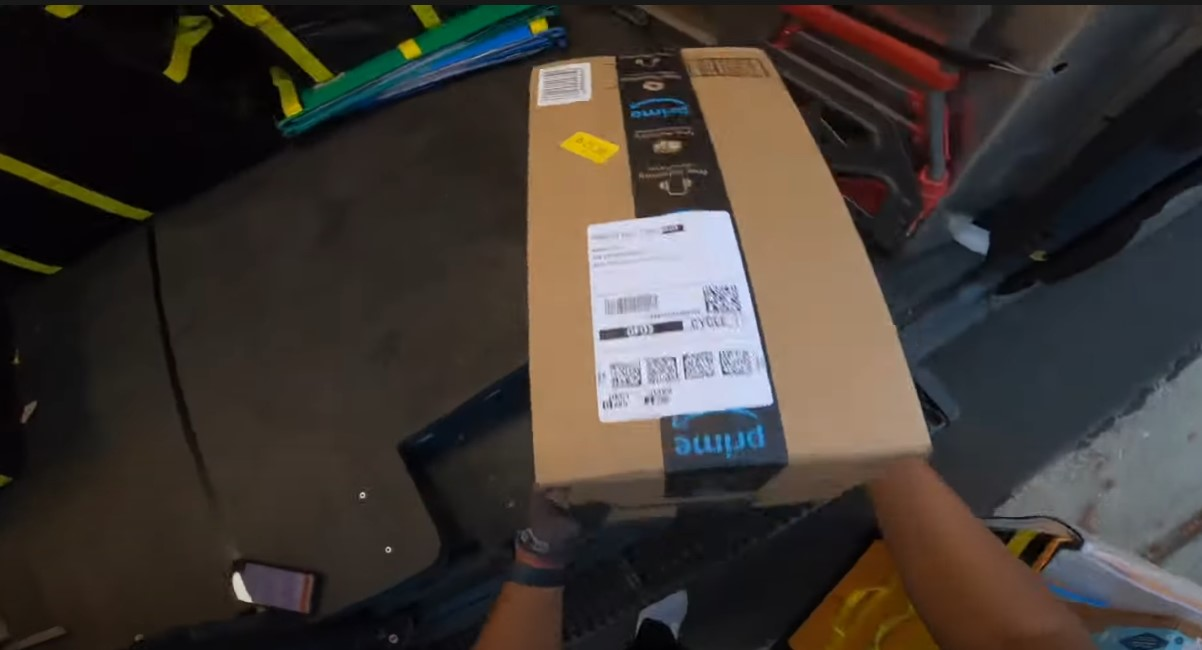package: (527, 42, 939, 537)
